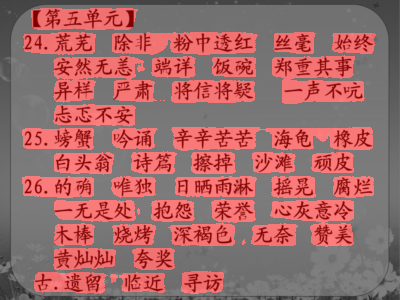text: (33, 8, 136, 28), (54, 57, 136, 77), (172, 33, 255, 52), (173, 80, 253, 99), (174, 129, 254, 148), (272, 202, 352, 221), (282, 82, 364, 100), (55, 105, 134, 123), (22, 177, 92, 197), (276, 57, 353, 75), (21, 33, 93, 52), (53, 202, 131, 219), (23, 129, 92, 148), (176, 177, 252, 194), (174, 224, 233, 245), (34, 274, 101, 292), (54, 248, 113, 268), (54, 153, 111, 172), (212, 199, 254, 222), (121, 272, 164, 293), (152, 199, 193, 221), (131, 152, 173, 173), (134, 248, 172, 271), (333, 127, 374, 148), (255, 225, 294, 247), (184, 271, 223, 293), (273, 128, 313, 149), (273, 176, 313, 197), (331, 175, 371, 196), (112, 224, 151, 245), (114, 79, 151, 101), (274, 33, 314, 53), (193, 153, 233, 173), (313, 223, 351, 244), (331, 33, 375, 51), (53, 80, 93, 99), (113, 129, 151, 149), (313, 153, 353, 172), (253, 152, 291, 172), (214, 59, 256, 76), (113, 177, 152, 195), (53, 226, 92, 244), (153, 57, 191, 75), (114, 33, 150, 51)
